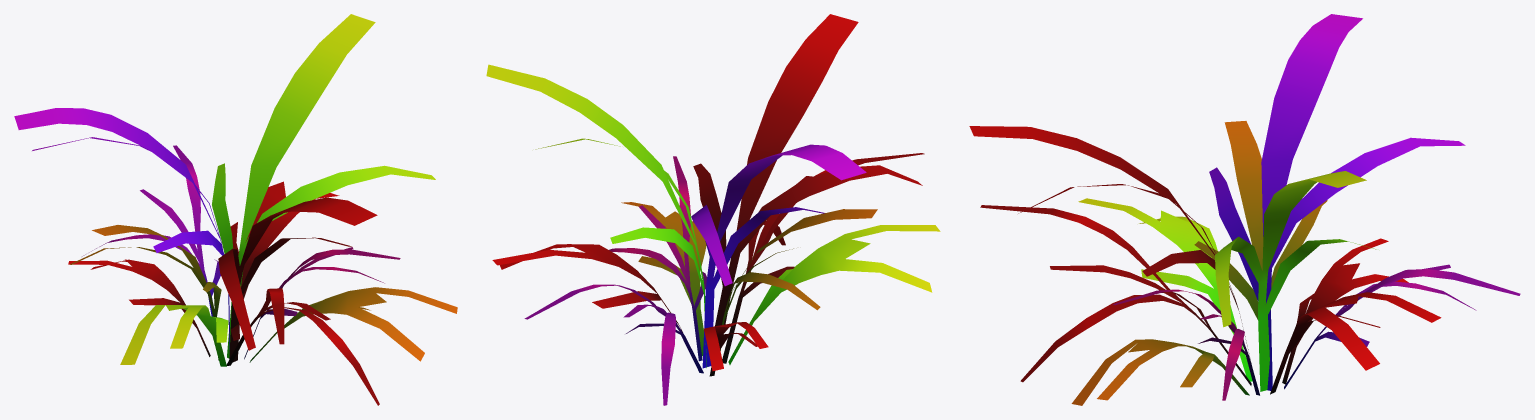
File: Tall_grass_var1.fbx
3 views of the same model, side by side, from view 1: azimuth 30°, elevation 25°; view 2: azimuth 150°, elevation 25°; view 3: azimuth 270°, elevation 25° (orthographic). The views are drawn at different scales.
Parts seen in each view (by area): view 1: Tall_grass_var1_LOD0; view 2: Tall_grass_var1_LOD0; view 3: Tall_grass_var1_LOD0.
Boxes of the visible parts, x1,y1,x2,y2 form: Tall_grass_var1_LOD0: (14,14,457,405); Tall_grass_var1_LOD0: (486,14,940,405); Tall_grass_var1_LOD0: (969,14,1520,405).
Size of what is drawn, in the model's own units: 2.85 by 2.01 by 3.35.
